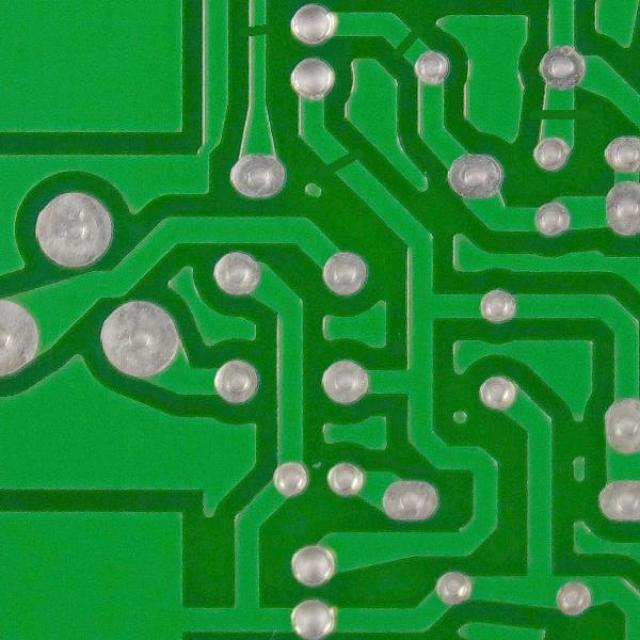Open_Circuit: (318, 140, 369, 182), (522, 98, 584, 131), (386, 19, 423, 63), (235, 15, 276, 51)
